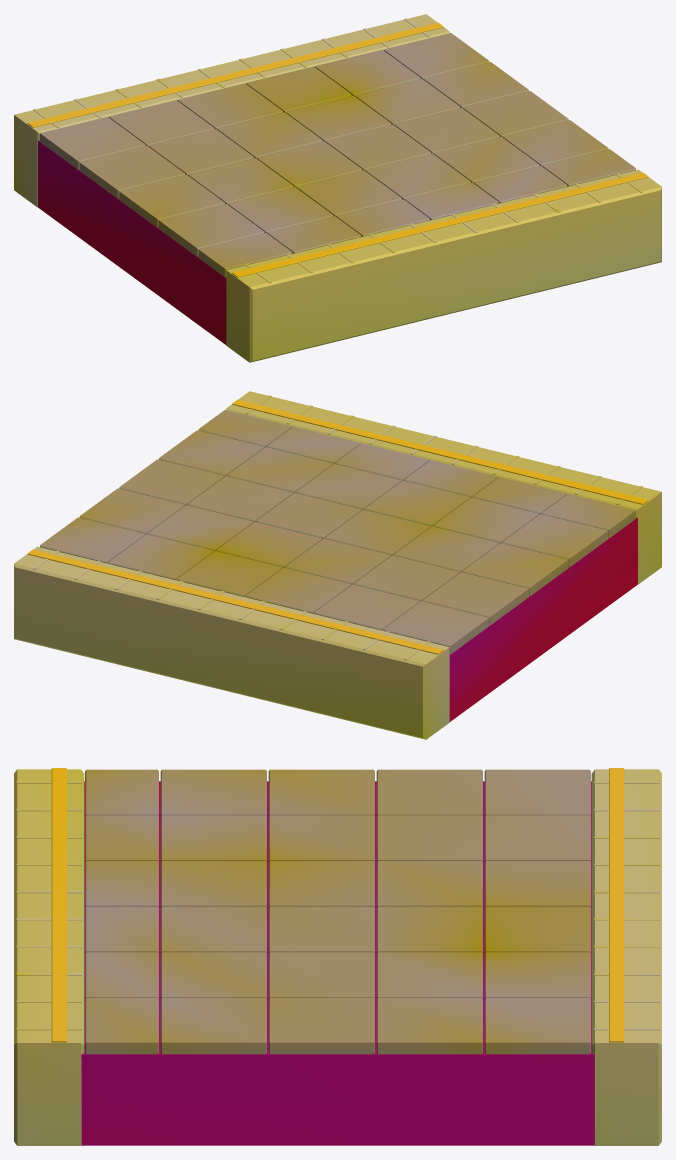
The model's file is GS_Platform_Island_6m.glb.
3 renders of one model, top to bottom at view 1: azimuth 30°, elevation 25°; view 2: azimuth 150°, elevation 25°; view 3: azimuth 270°, elevation 25°, orthographic. The views are drawn at different scales.
Parts seen in each view (by area): view 1: GS_Platform_Island_6m; view 2: GS_Platform_Island_6m; view 3: GS_Platform_Island_6m.
Boxes of the visible parts, x1=… form: GS_Platform_Island_6m: x1=14, y1=14, x2=661, y2=362; GS_Platform_Island_6m: x1=14, y1=391, x2=661, y2=739; GS_Platform_Island_6m: x1=14, y1=768, x2=661, y2=1145.
Bounding box in the file's own units: 6 × 1.07 × 6.
